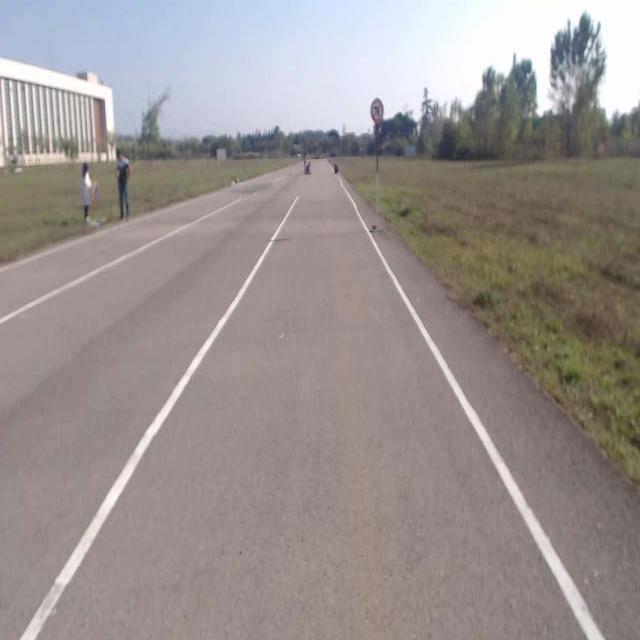soladonulmez: (368, 98, 386, 121)
